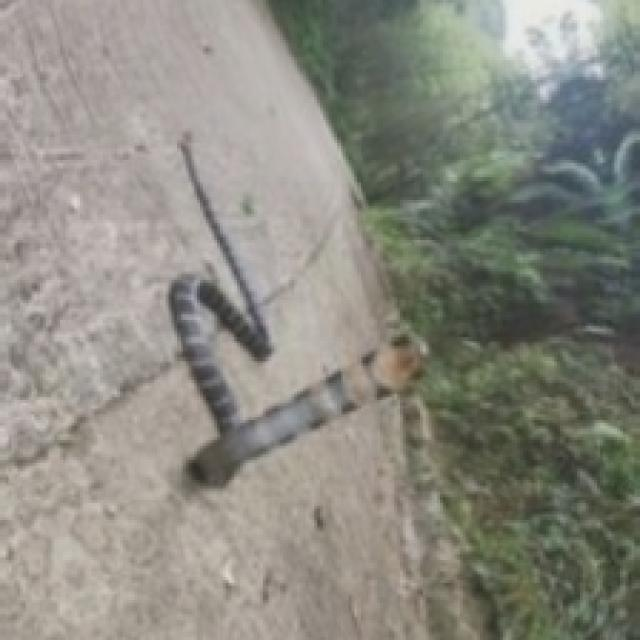king cobra: (169, 143, 423, 483), (169, 274, 423, 483)
